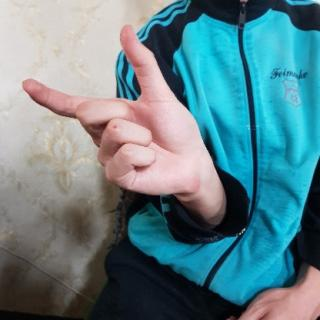NOON: (22, 21, 206, 202)
